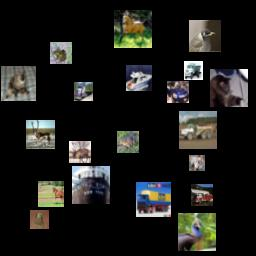automobile: (167, 81, 189, 103)
bird: (178, 213, 216, 251), (189, 20, 221, 52)
cat: (210, 69, 248, 107), (1, 66, 36, 101)
deer: (26, 120, 55, 149), (69, 141, 91, 163)
dog: (189, 155, 205, 171)
frog: (117, 131, 139, 153), (50, 42, 72, 64), (30, 210, 49, 229)
ship: (72, 166, 110, 204), (126, 65, 152, 91)
truck: (179, 111, 217, 149), (136, 182, 171, 217), (191, 184, 213, 206), (74, 82, 93, 101), (184, 61, 203, 80)
